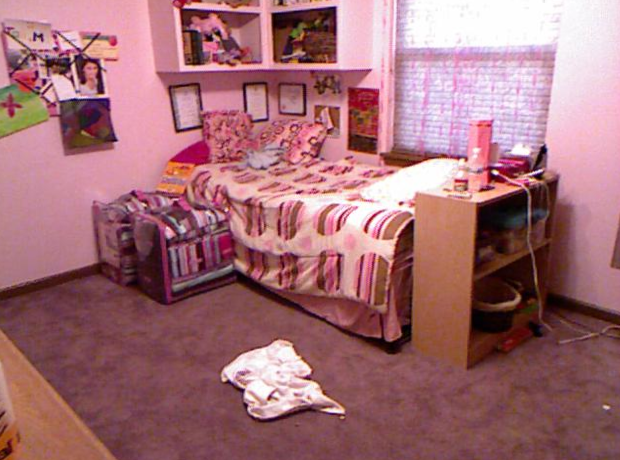cabinet: (412, 164, 561, 353)
window: (400, 3, 547, 138)
